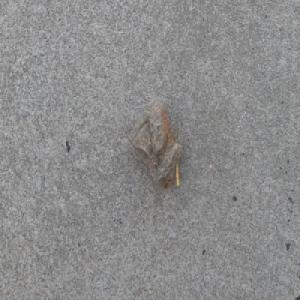Rock: (128, 100, 182, 192)
